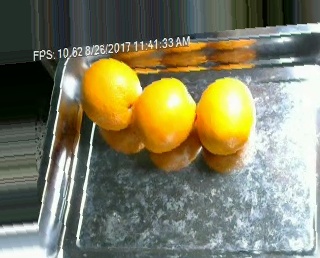Orange: (195, 76, 256, 155), (134, 76, 196, 153), (81, 57, 141, 131)
